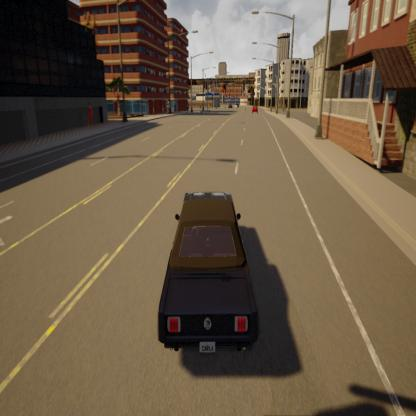Cars: (158, 182, 263, 361)
Pedestrian: (86, 99, 96, 131)
